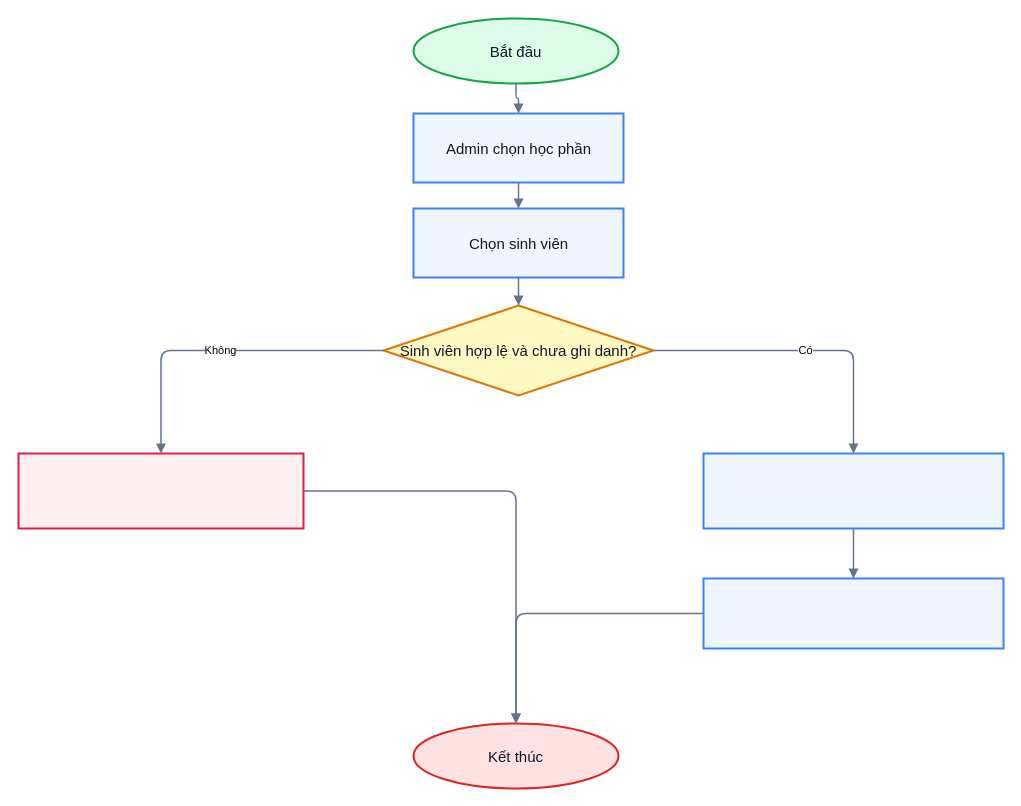
This 1021x806 diagram has some shape labels left out. Each missing label, with the centre of its shape:
Báo đã tồn tại / dữ liệu sai: pixel 160 490
Lưu SQL Server: pixel 853 613
Tạo Enrollment trạng thái ACTIVE: pixel 853 490
